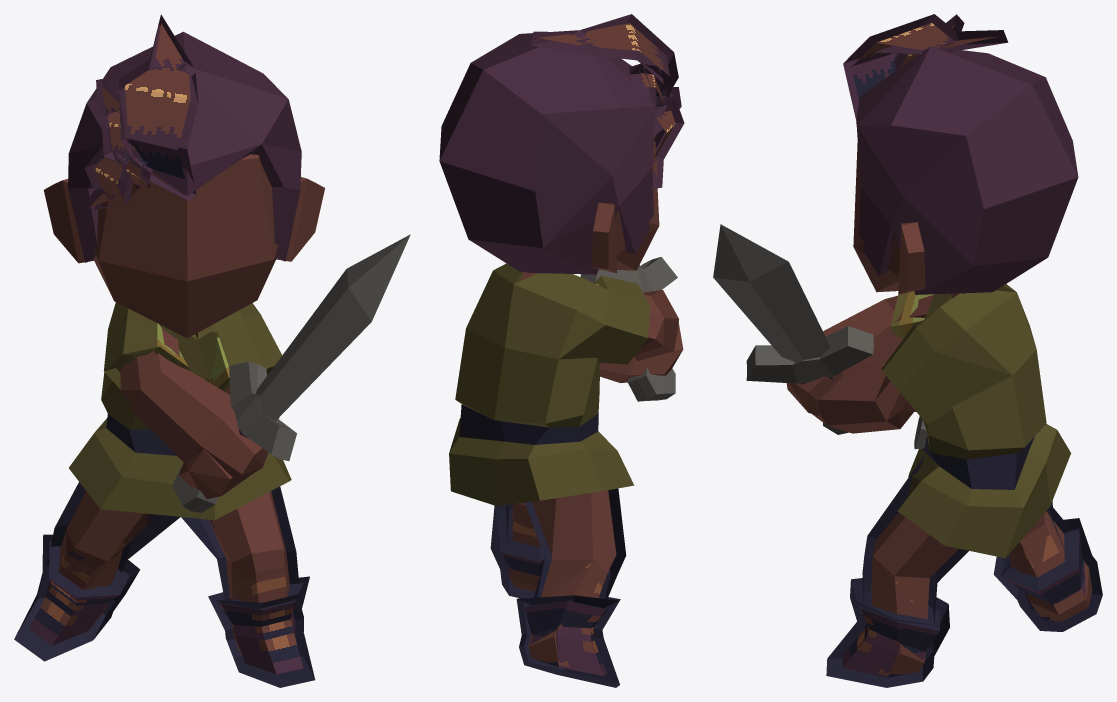
The model's file is KonK_pose1.fbx.
The picture shows the model from 3 angles, left to right: view 1: azimuth 30°, elevation 25°; view 2: azimuth 150°, elevation 25°; view 3: azimuth 270°, elevation 25°; orthographic projection. The views are drawn at different scales.
Visible parts, largest first — view 1: BaseBody, Hair2, BasicPants1, BasicShirt1.002, Sword, Ears; view 2: Hair2, BasicShirt1.002, BaseBody, BasicPants1, Sword, Ears; view 3: Hair2, BasicShirt1.002, BaseBody, BasicPants1, Sword, Ears.
Boxes of the visible parts, x1,y1,x2,y2 form: BaseBody: (44, 154, 292, 656); Hair2: (68, 14, 301, 262); BasicPants1: (14, 482, 315, 687); BasicShirt1.002: (69, 302, 291, 520); Sword: (172, 234, 410, 512); Ears: (43, 177, 324, 263); Hair2: (439, 14, 684, 274); BasicShirt1.002: (449, 263, 650, 505); BaseBody: (507, 131, 683, 666); BasicPants1: (490, 488, 626, 687); Sword: (580, 257, 677, 401); Ears: (592, 202, 616, 273); Hair2: (843, 14, 1078, 294); BasicShirt1.002: (882, 284, 1070, 558); BaseBody: (786, 143, 1092, 676); BasicPants1: (826, 452, 1102, 687); Sword: (713, 224, 873, 434); Ears: (898, 222, 925, 294).
Bounding box in the file's own units: 113 × 294 × 165.
